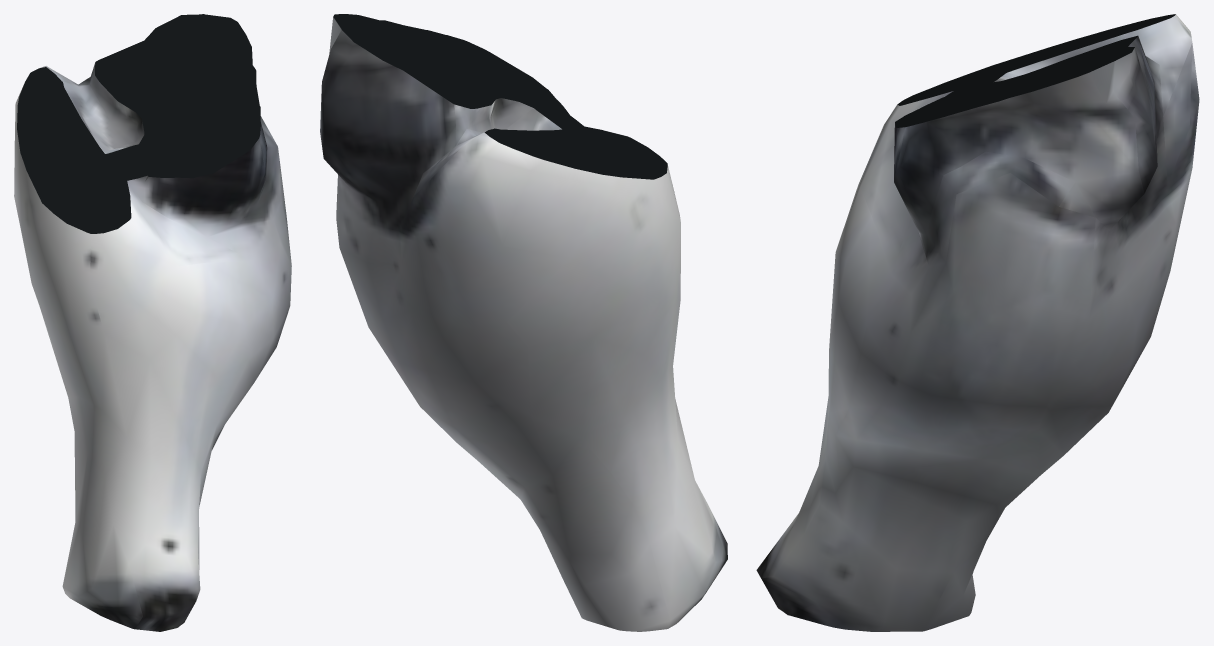
File: right_forearm.obj
3 views of the same model, side by side, from view 1: azimuth 30°, elevation 25°; view 2: azimuth 150°, elevation 25°; view 3: azimuth 270°, elevation 25° (orthographic). The views are drawn at different scales.
Visible parts, largest first — view 1: right_forearm; view 2: right_forearm; view 3: right_forearm.
Boxes of the visible parts, <box> form: right_forearm: <box>14,14,291,631</box>; right_forearm: <box>320,14,727,631</box>; right_forearm: <box>756,14,1199,631</box>.
Size of the model in its own units: 0.1692 by 0.3232 by 0.2007.
Materials: 2 (1 with a texture image).
